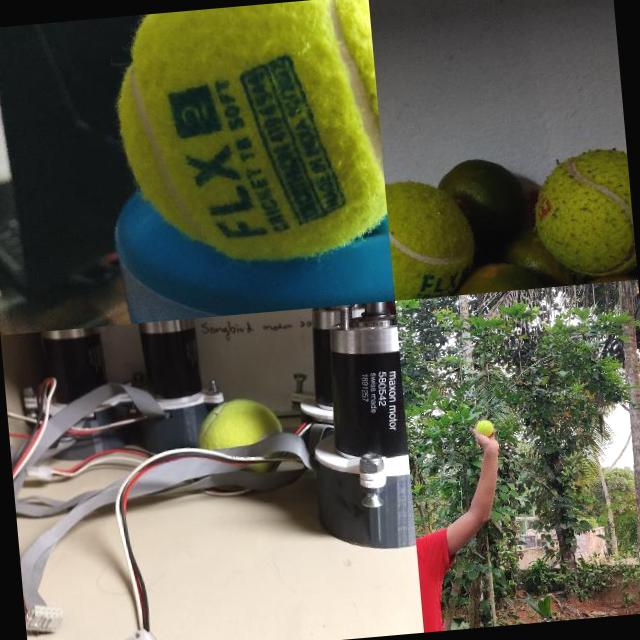tennis-ball: (111, 0, 389, 270), (528, 146, 636, 280), (384, 176, 452, 300), (195, 395, 282, 439), (476, 418, 494, 436)
